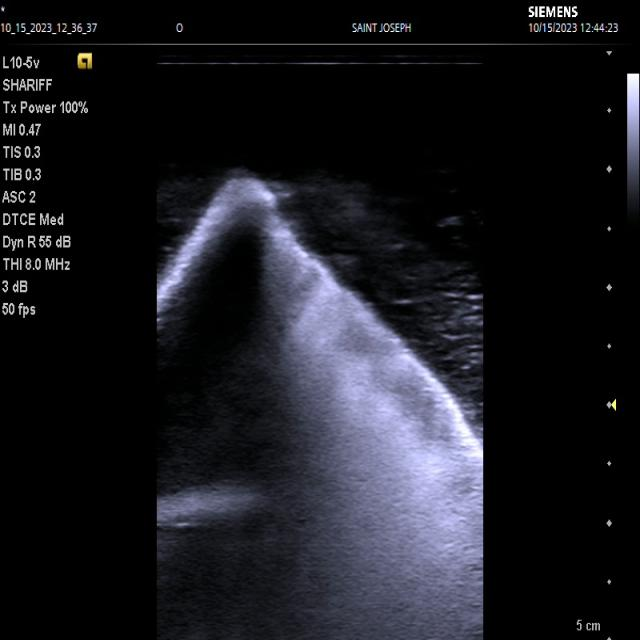tissue: (158, 171, 482, 640)
